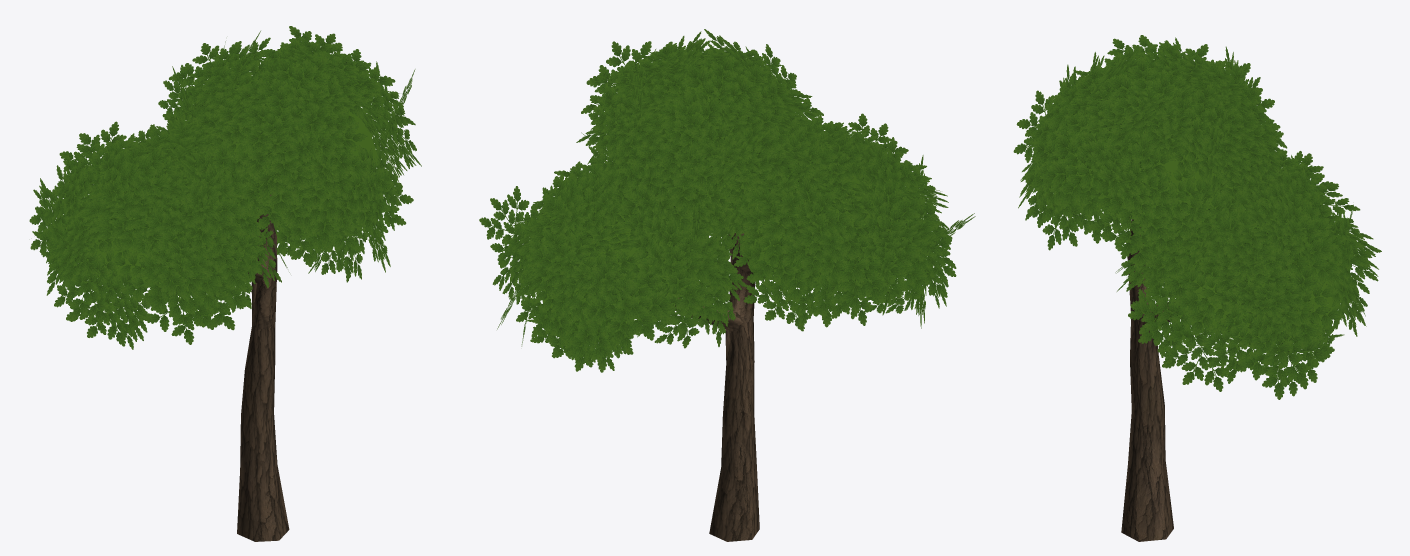
The model's file is Oak01.fbx.
3 views of the same model, side by side, from view 1: azimuth 30°, elevation 25°; view 2: azimuth 150°, elevation 25°; view 3: azimuth 270°, elevation 25° (orthographic).
Parts seen in each view (by area): view 1: Oak01_LOD0; view 2: Oak01_LOD0; view 3: Oak01_LOD0.
Part boxes in pixels (x1=…): Oak01_LOD0: x1=29, y1=26, x2=421, y2=541; Oak01_LOD0: x1=479, y1=29, x2=975, y2=541; Oak01_LOD0: x1=1013, y1=35, x2=1381, y2=541.
Size of what is drawn, in the model's own units: 4.25 by 4.78 by 3.38.
